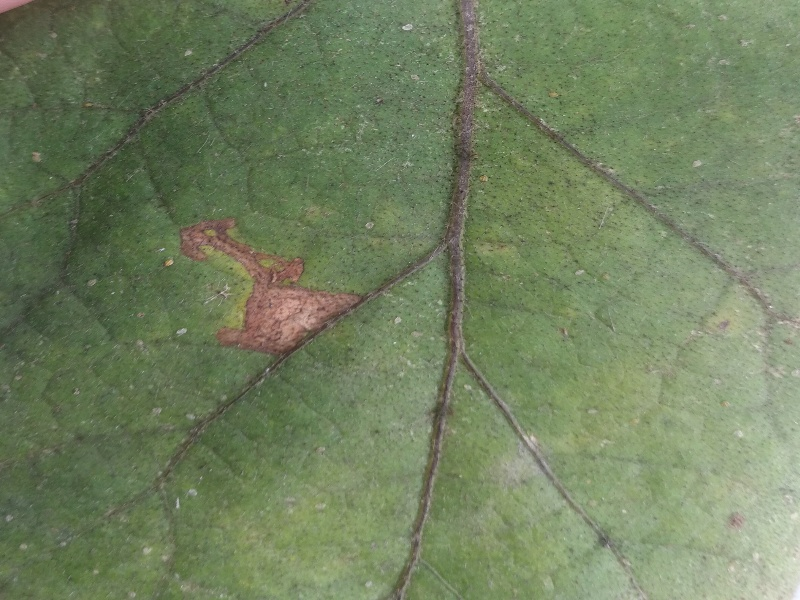leafminer: (166, 205, 371, 368)
